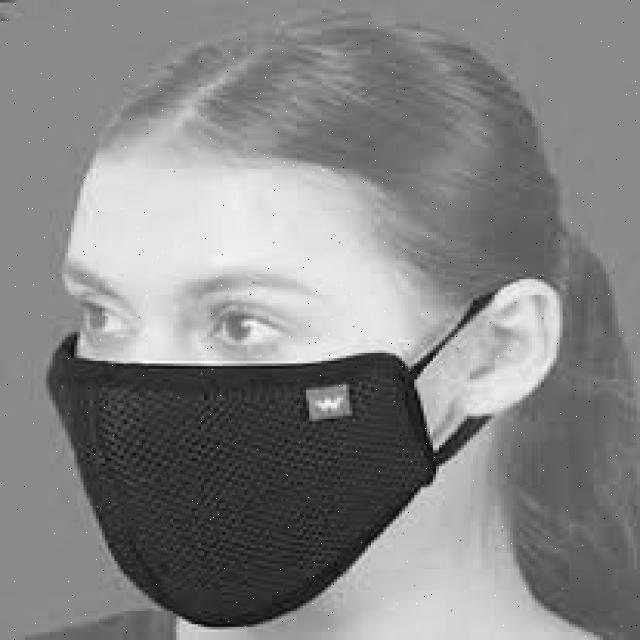fake: (44, 353, 441, 627)
real: (72, 143, 486, 621)
